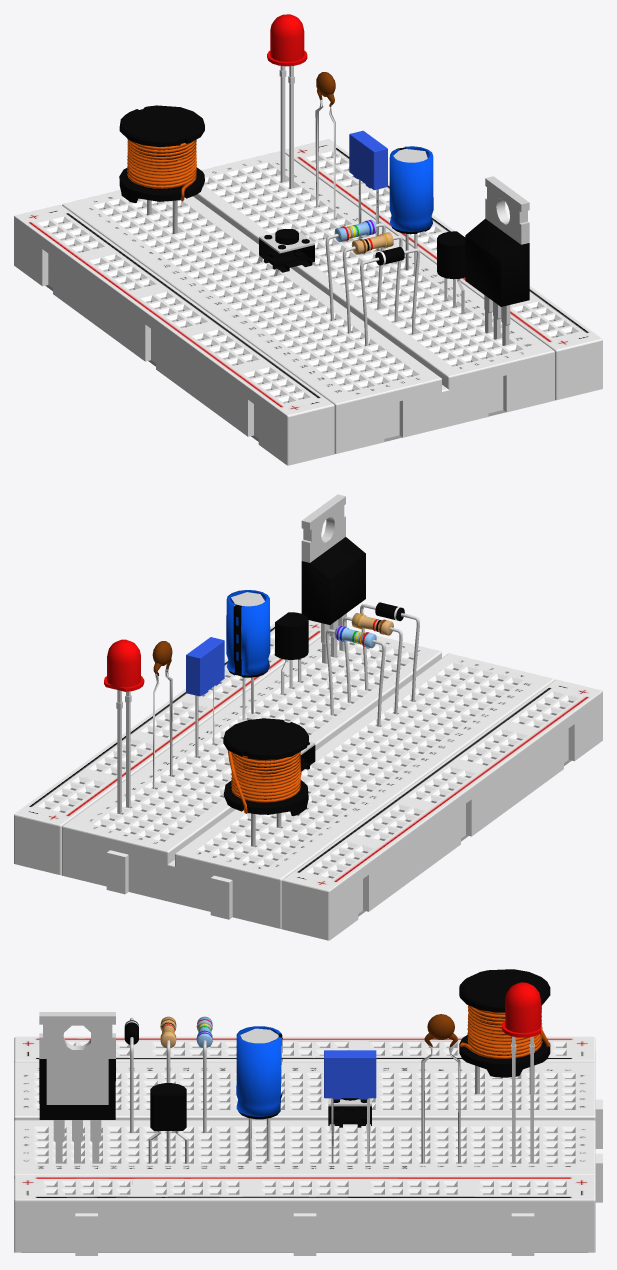
Rendered from OBJ-electronic_components.glb.
The picture shows the model from 3 angles, top to bottom: view 1: azimuth 30°, elevation 25°; view 2: azimuth 150°, elevation 25°; view 3: azimuth 270°, elevation 25°; orthographic projection. The views are drawn at different scales.
Parts seen in each view (by area): view 1: Breadboard_100, Inductor-Radial_38, TO-220_18, Capacitor-Cylindrical_6, Wire.001_37, Heatsink_16, Capacitor-Film_22, Diode-Light-Emitting_2, Button_33, Legs_0, TO-92_15, Legs.005_17 (+4 smaller); view 2: Breadboard_100, Inductor-Radial_38, TO-220_18, Capacitor-Cylindrical_6, Wire.001_37, Heatsink_16, Capacitor-Film_22, Diode-Light-Emitting_2, TO-92_15, Legs_0, Legs.011_8, Legs.017_29 (+3 smaller); view 3: Breadboard_100, Heatsink_16, Inductor-Radial_38, Capacitor-Cylindrical_6, Capacitor-Film_22, Wire.001_37, TO-220_18, Diode-Light-Emitting_2, TO-92_15, Legs.005_17, Legs_0, Button_33 (+9 smaller).
Part boxes in pixels (x1,y1,x2,y2): Breadboard_100: [14, 139, 602, 465]; Inductor-Radial_38: [119, 105, 204, 202]; TO-220_18: [465, 218, 529, 306]; Capacitor-Cylindrical_6: [389, 146, 433, 234]; Wire.001_37: [127, 139, 196, 201]; Heatsink_16: [485, 176, 529, 244]; Capacitor-Film_22: [349, 130, 387, 189]; Diode-Light-Emitting_2: [267, 14, 307, 66]; Button_33: [259, 228, 314, 272]; Legs_0: [279, 66, 294, 188]; TO-92_15: [437, 231, 465, 279]; Legs.005_17: [484, 295, 510, 345]; Breadboard_100: [14, 620, 602, 940]; Inductor-Radial_38: [223, 718, 308, 816]; TO-220_18: [301, 537, 365, 624]; Capacitor-Cylindrical_6: [226, 590, 270, 677]; Wire.001_37: [228, 750, 300, 813]; Heatsink_16: [301, 494, 345, 562]; Capacitor-Film_22: [186, 637, 224, 696]; Diode-Light-Emitting_2: [104, 639, 144, 691]; TO-92_15: [275, 612, 308, 659]; Legs_0: [116, 690, 131, 814]; Legs.011_8: [325, 629, 385, 726]; Legs.017_29: [342, 616, 402, 714]; Breadboard_100: [14, 1036, 602, 1255]; Heatsink_16: [39, 1012, 115, 1104]; Inductor-Radial_38: [459, 969, 550, 1077]; Capacitor-Cylindrical_6: [236, 1026, 282, 1119]; Capacitor-Film_22: [324, 1050, 376, 1099]; Wire.001_37: [460, 1005, 549, 1058]; TO-220_18: [39, 1059, 115, 1119]; Diode-Light-Emitting_2: [502, 982, 540, 1037]; TO-92_15: [150, 1083, 186, 1130]; Legs.005_17: [53, 1120, 101, 1163]; Legs_0: [511, 1036, 534, 1163]; Button_33: [328, 1098, 371, 1127].
Size of the model in its own units: 0.0803 by 0.0522 by 0.12.
27 materials, 1 textured.
